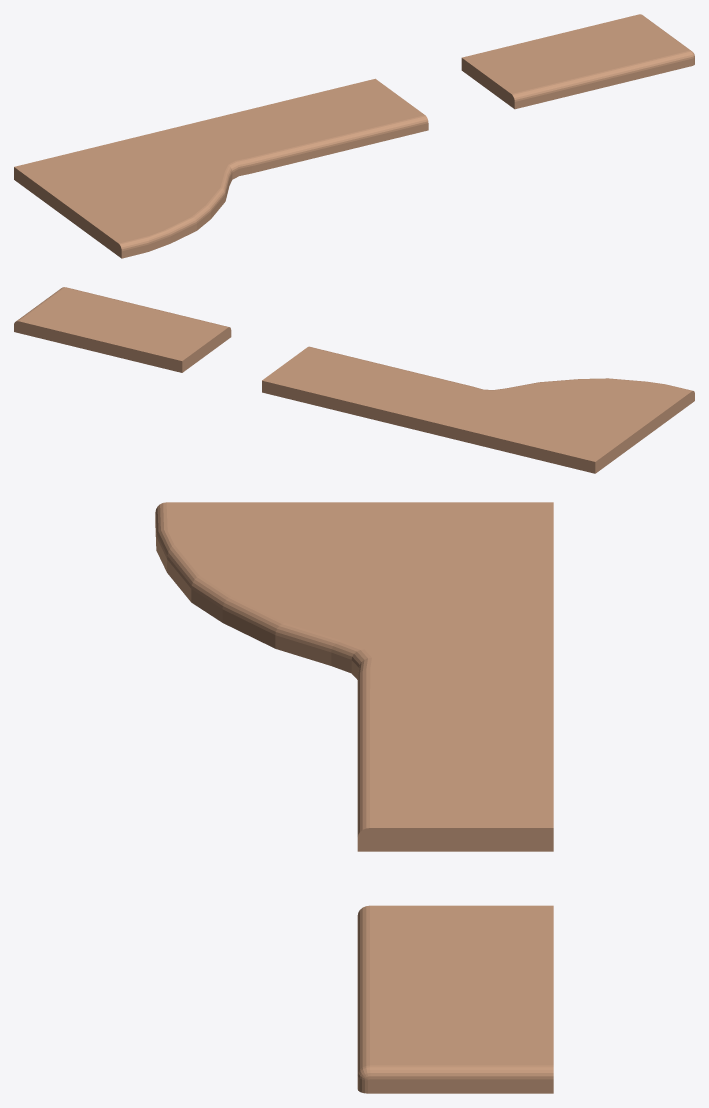
The model's file is Platform_seperate.fbx.
3 renders of one model, top to bottom at view 1: azimuth 30°, elevation 25°; view 2: azimuth 150°, elevation 25°; view 3: azimuth 270°, elevation 25°, orthographic. The views are drawn at different scales.
Visible parts, largest first — view 1: Cube.031, Cube.032; view 2: Cube.031, Cube.032; view 3: Cube.031, Cube.032.
Boxes of the visible parts, left/top/right/bottom form: Cube.031: left=14, top=78, right=428, bottom=258; Cube.032: left=461, top=14, right=694, bottom=109; Cube.031: left=262, top=346, right=694, bottom=473; Cube.032: left=14, top=287, right=231, bottom=372; Cube.031: left=155, top=502, right=553, bottom=851; Cube.032: left=357, top=905, right=553, bottom=1093.
Size of the model in its own units: 1685 by 32.89 by 500.
